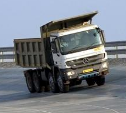truck: (11, 6, 115, 101)
